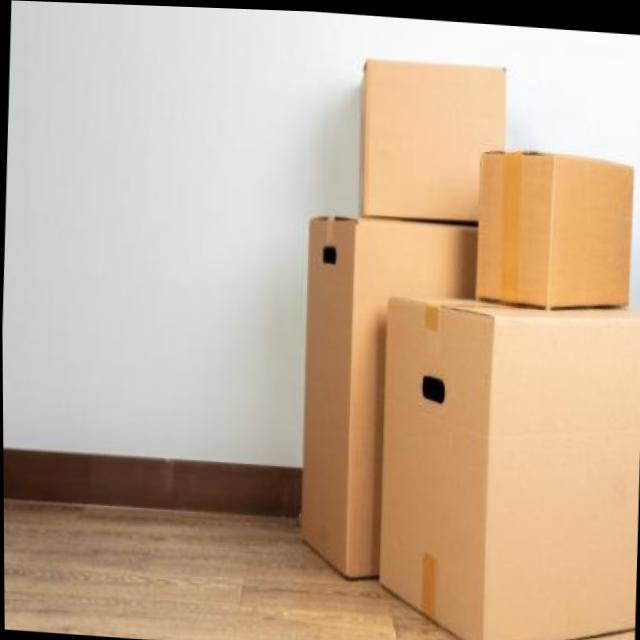box: (365, 285, 640, 640), (283, 195, 477, 620), (468, 128, 640, 346), (346, 39, 515, 228)
